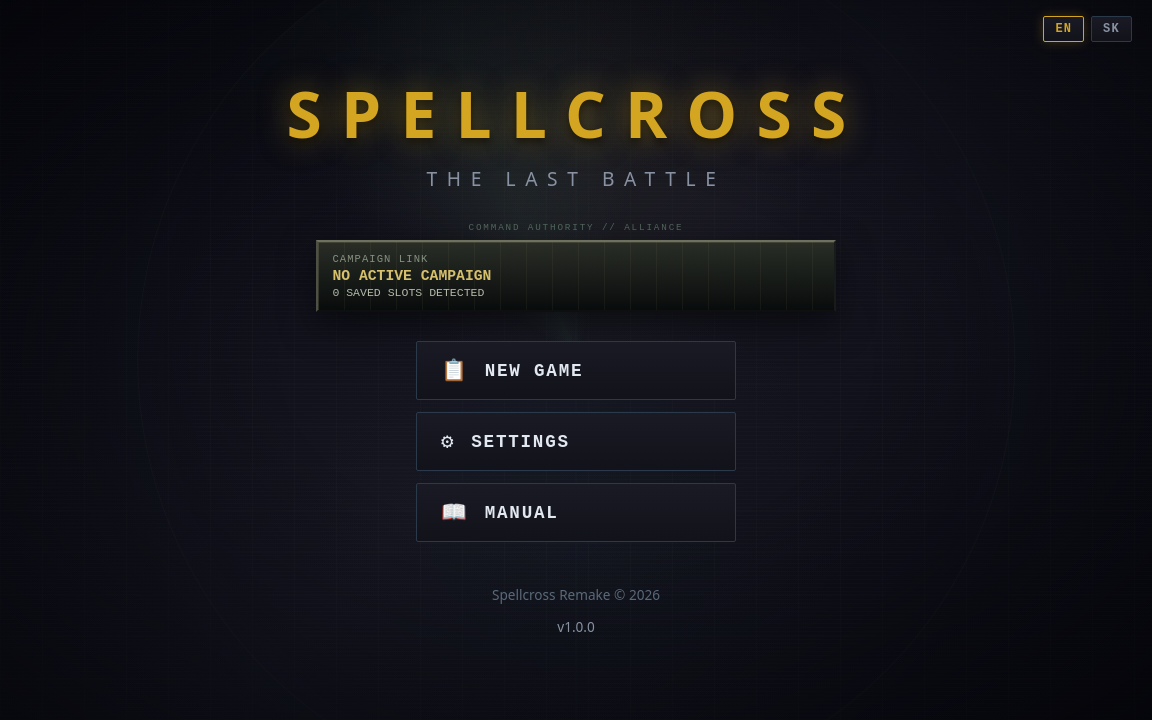
Test: MainMenu › opens the commander manual from the main menu
Click the button "📖 Manual" at (522, 513), box [416, 483, 736, 542]
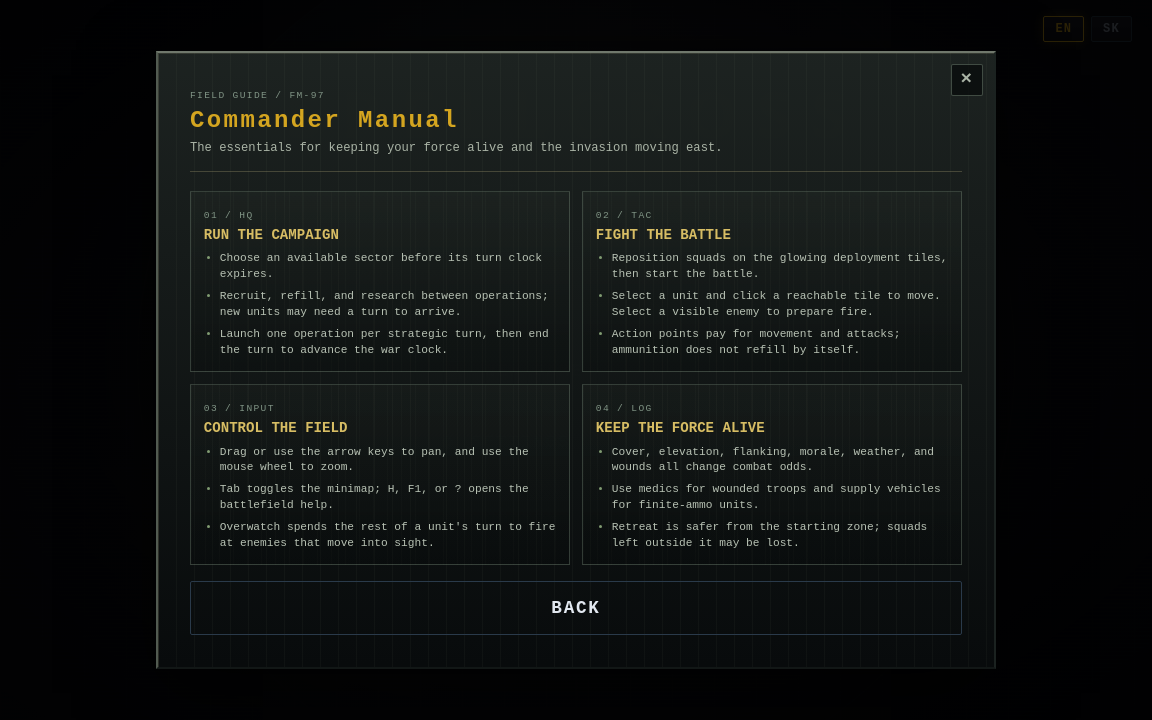
Expected: the text "Run the campaign" is shown, [204, 227, 339, 243]
Expected: the text "Fight the battle" is shown, [596, 227, 731, 243]
Expected: the button with class "modal-close" is shown
Click the button with class "modal-close" at (967, 80), box [951, 64, 983, 96]
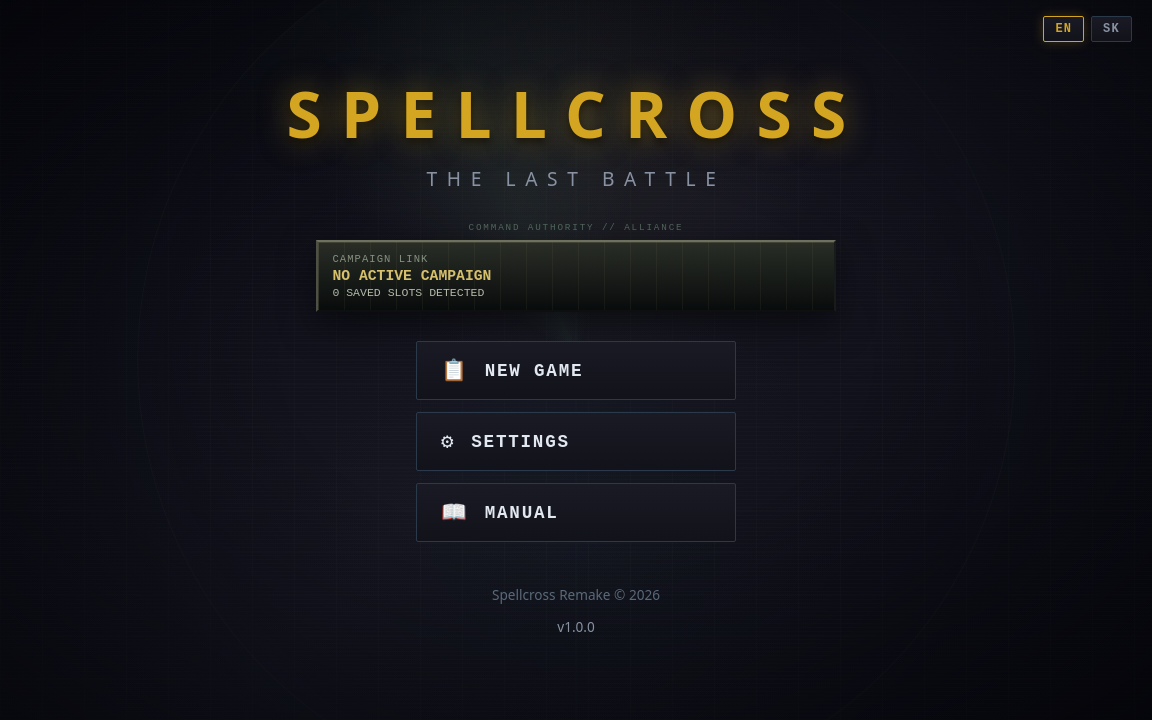
Expected: the dialog is gone
